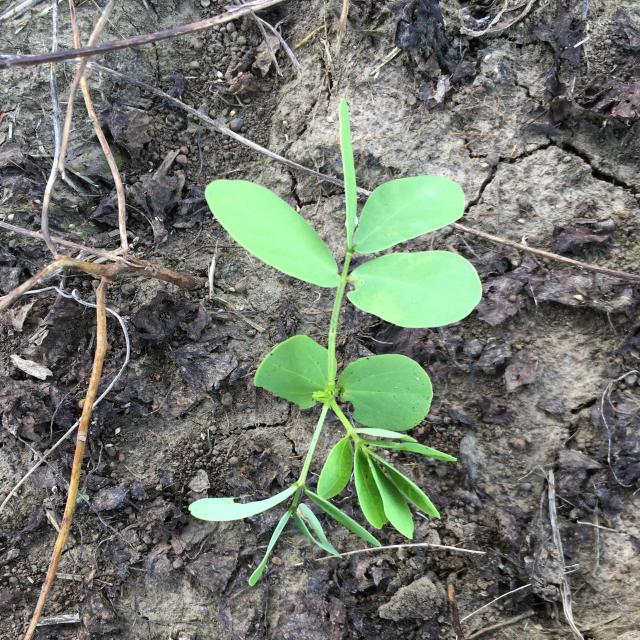Sicklepod: (188, 99, 483, 586)
